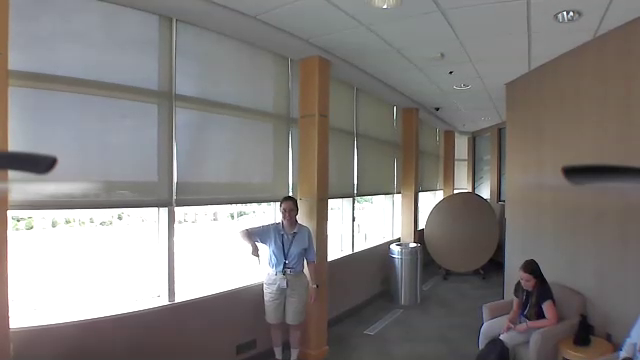down: (243, 240, 262, 268)
